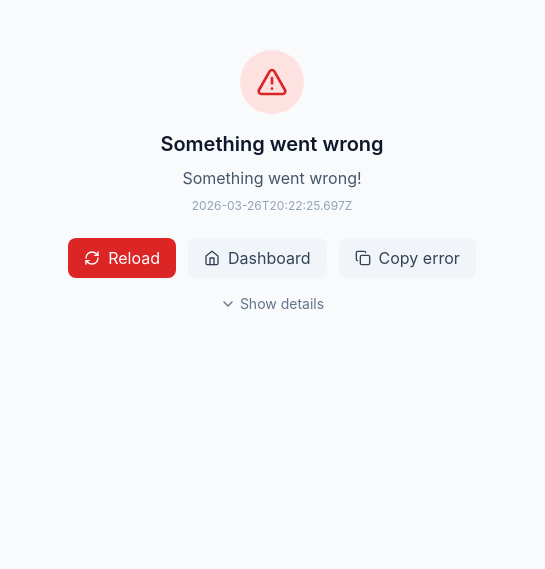
ErrorBoundary › toggles error details on click
The width and height of the screenshot is (545, 569).
What coordinates should you click on to do the following:
click the button with test id "error-boundary-toggle-details"
I would click on:
 (272, 304)
Its box is [220,294,324,314].
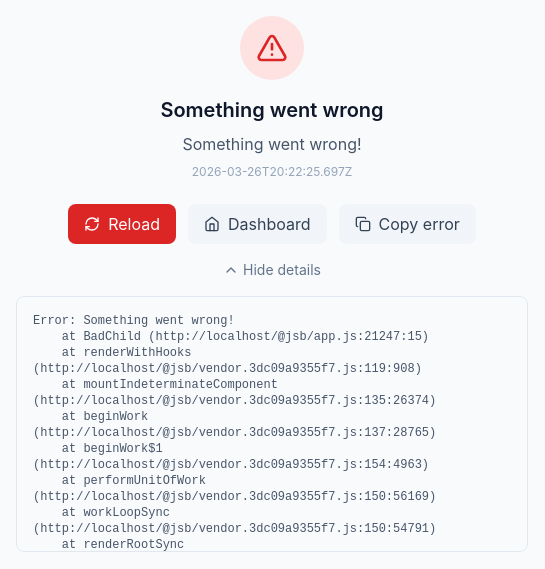
Now the button with test id "error-boundary-toggle-details" reads "Hide details"
Now the text with test id "error-boundary-details" is shown, box [16,296,528,552]
What coordinates should you click on to do the following:
click the button with test id "error-boundary-toggle-details"
I would click on:
 (272, 270)
Its box is [223,260,321,280].
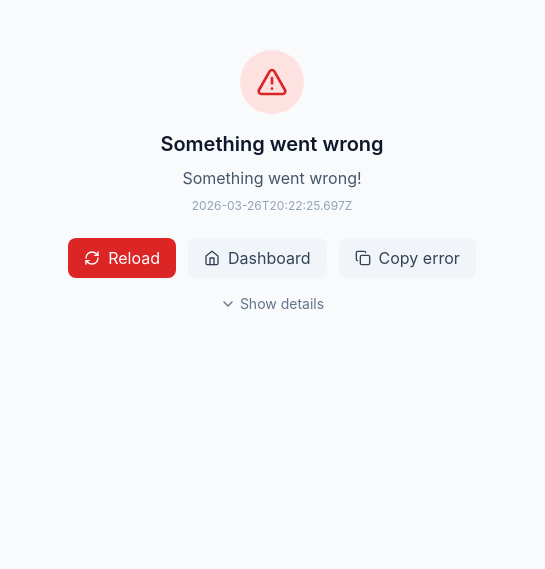
Now the button with test id "error-boundary-toggle-details" reads "Show details", box [220,294,324,314]
Now the text with test id "error-boundary-details" is gone
